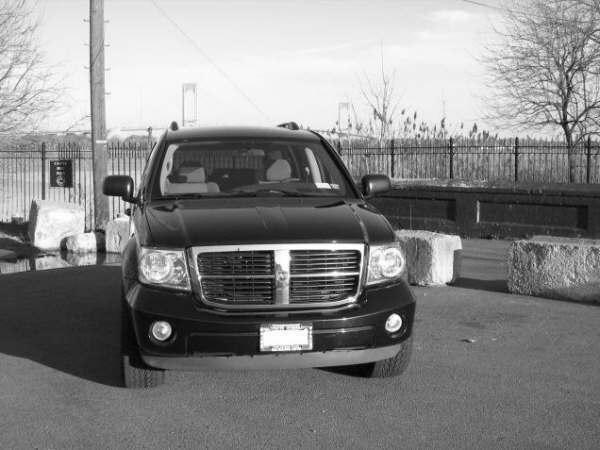car: (98, 119, 423, 397)
